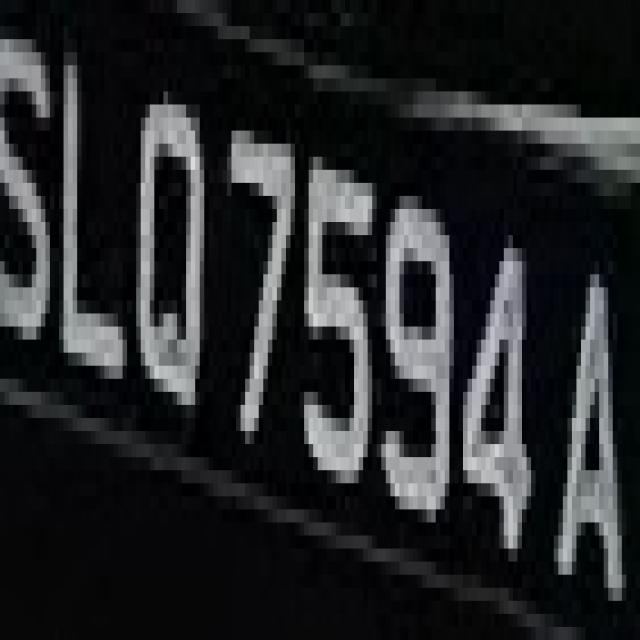4: (454, 196, 531, 575)
5: (295, 118, 381, 522)
7: (218, 78, 299, 470)
9: (377, 143, 458, 574)
A: (544, 209, 636, 640)
L: (55, 65, 127, 405)
Q: (127, 65, 218, 444)
S: (5, 13, 68, 353)
